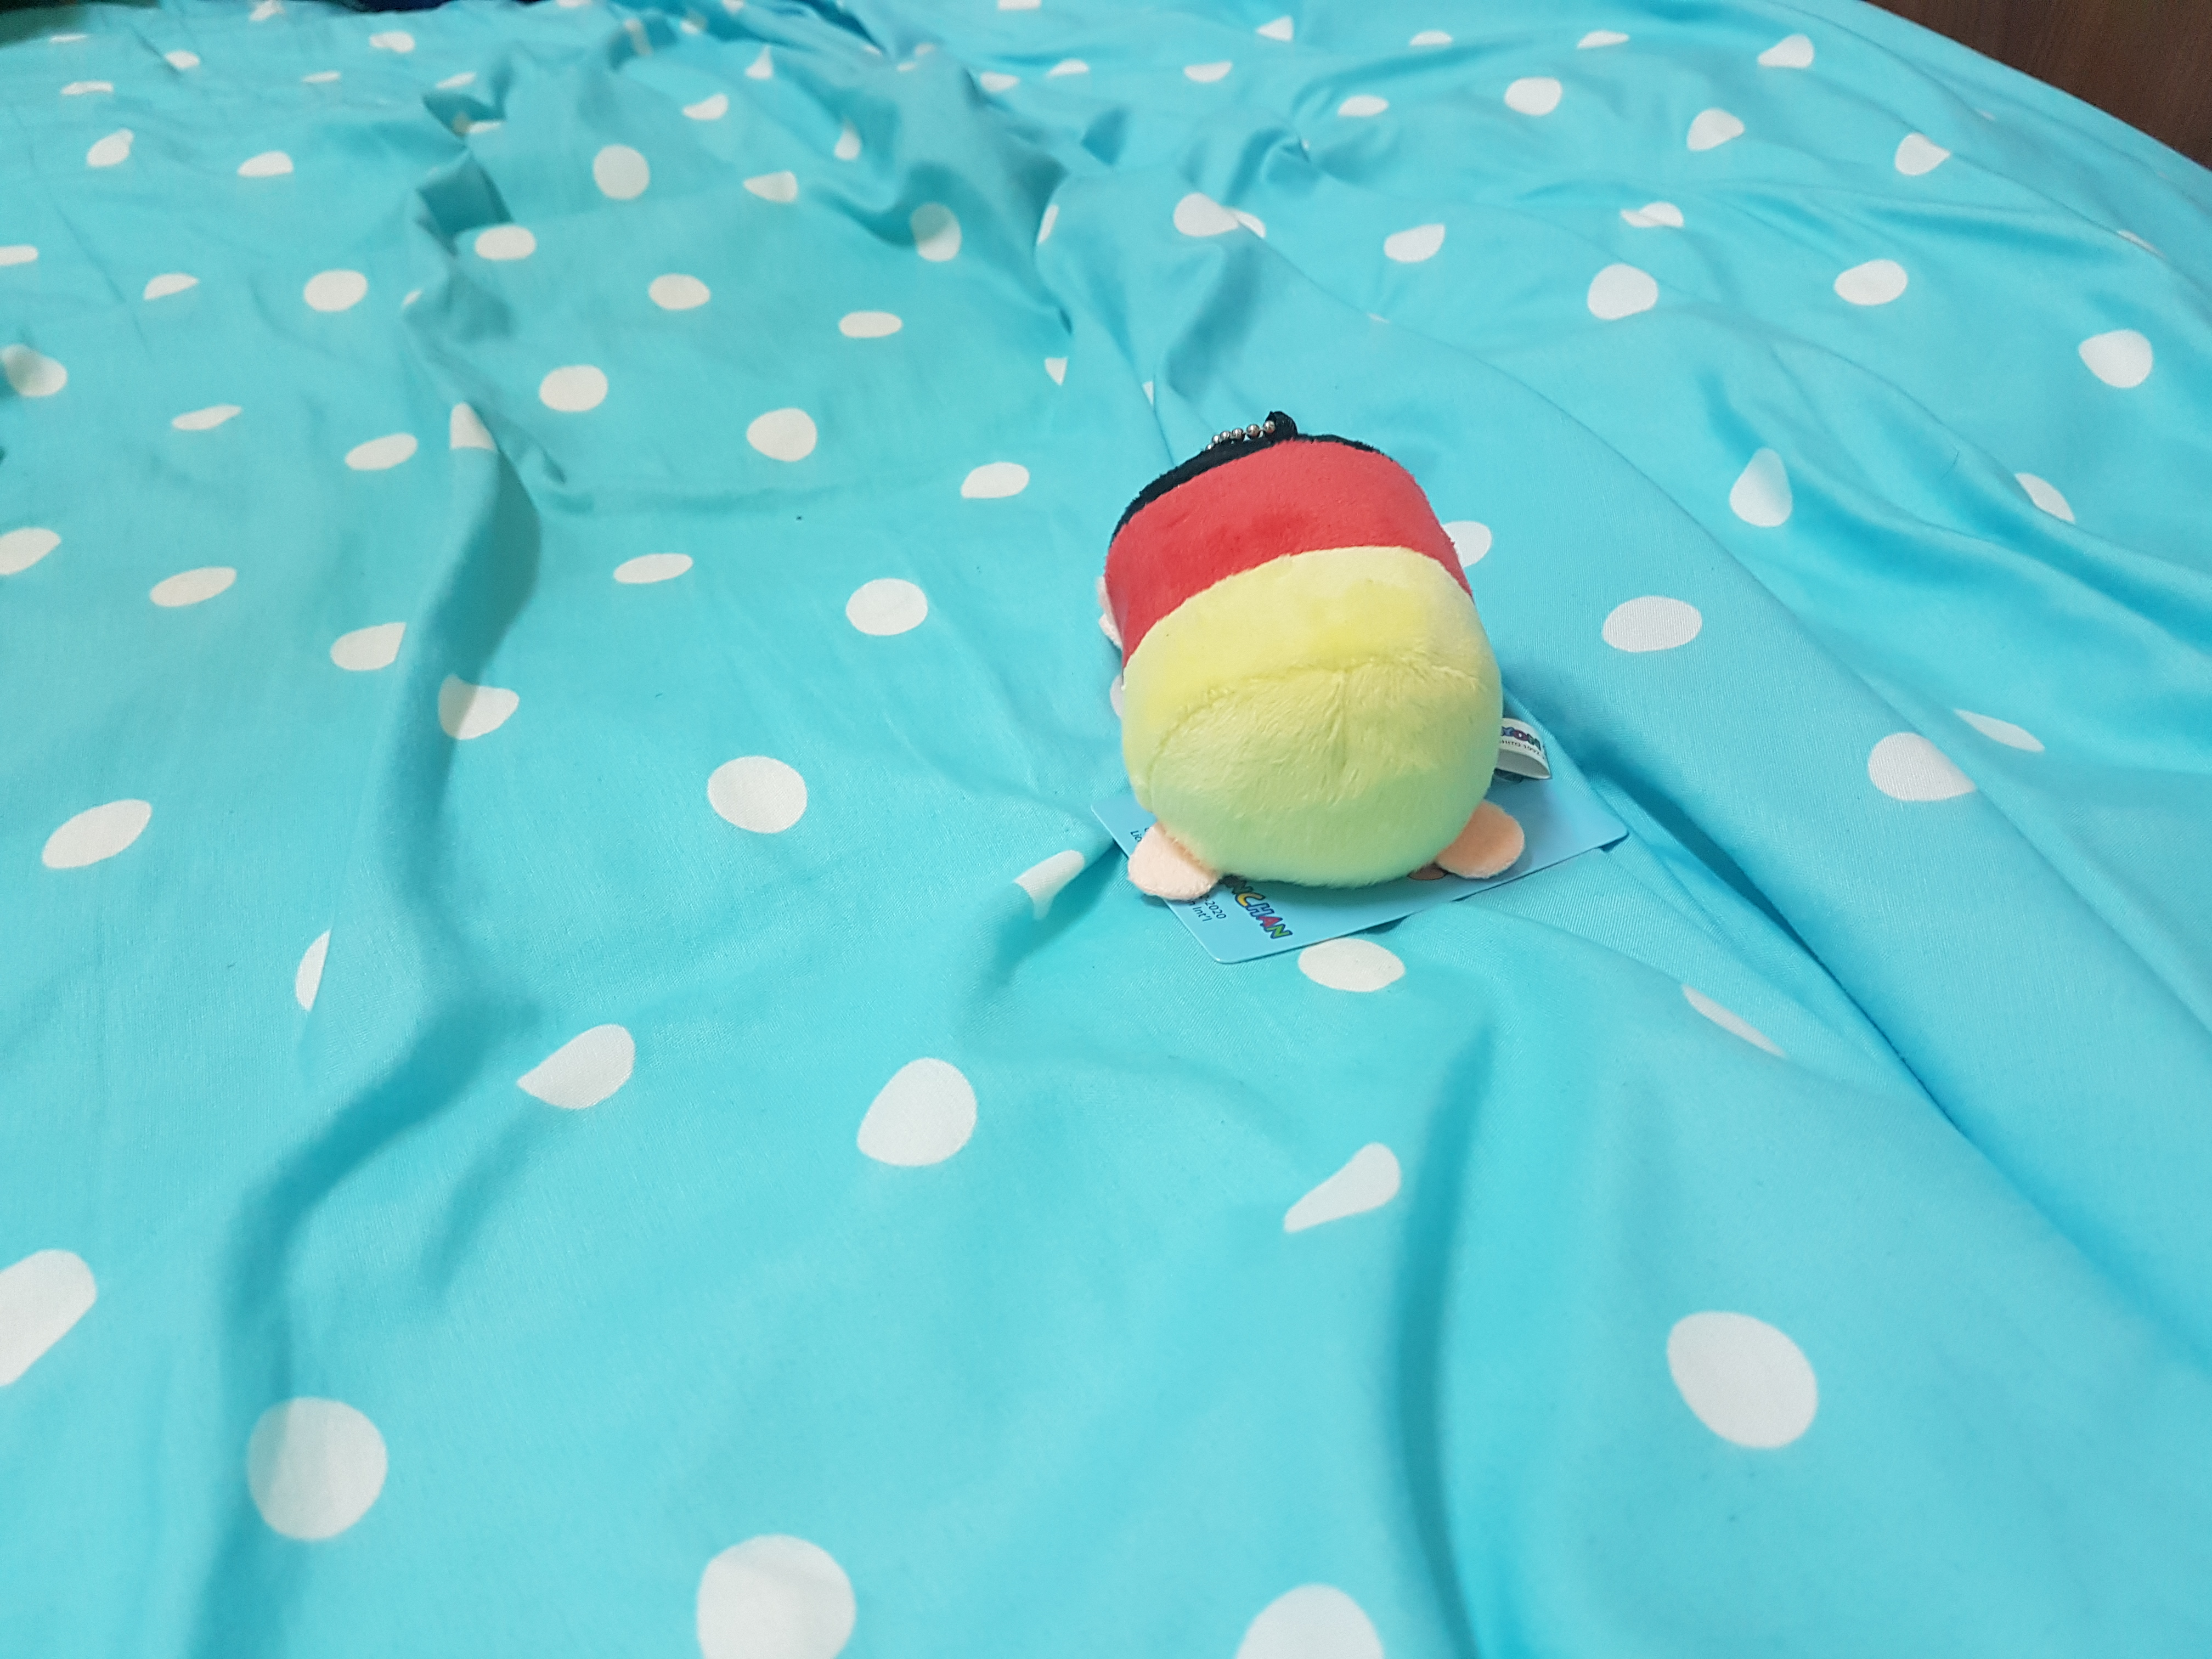stuffed toy: (1099, 411, 1526, 903)
